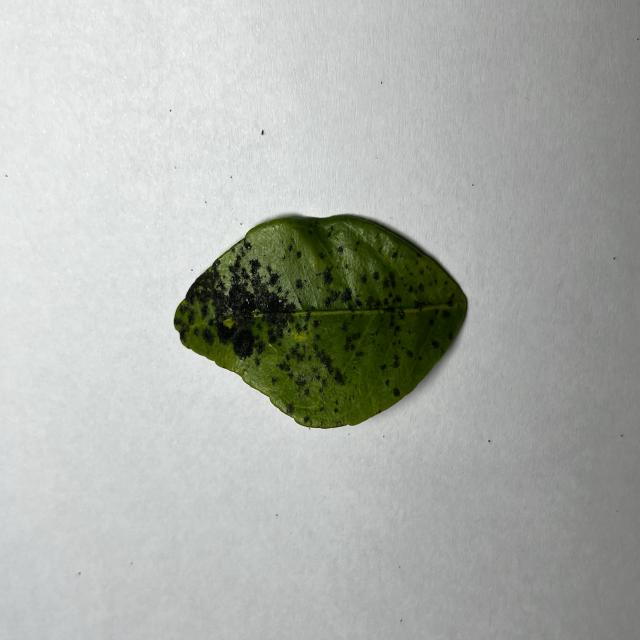sooty_mold: (173, 216, 466, 428)
